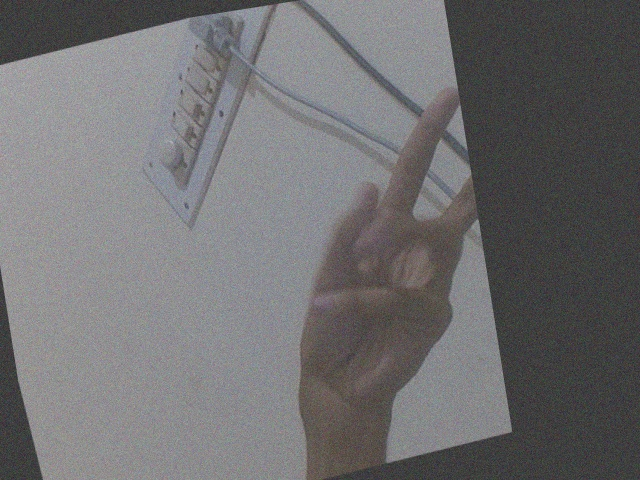hand: (297, 80, 484, 415)
